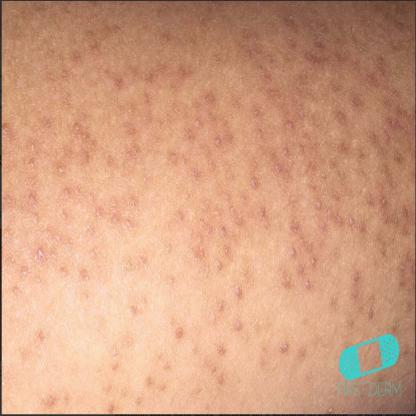Chicken Skin: (3, 2, 415, 414)
